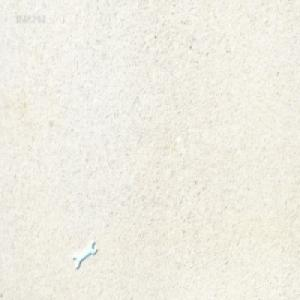Wrench: (73, 240, 98, 269)
